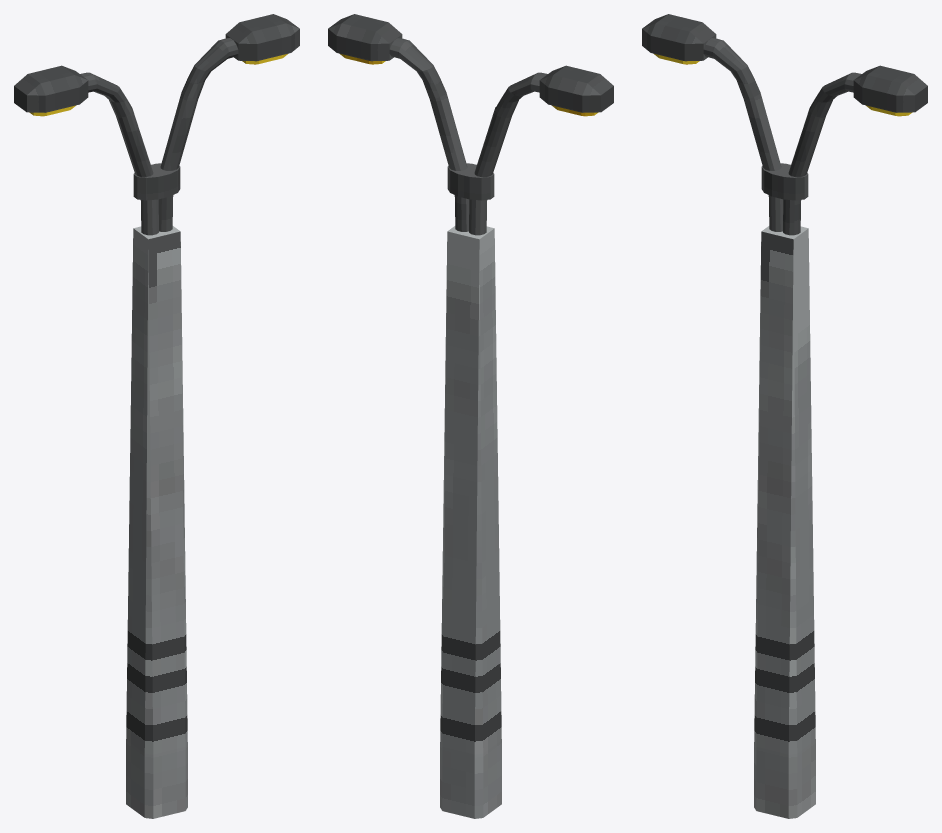
Rendered from tramvaiSupport.fbx.
3 renders of one model, left to right at view 1: azimuth 30°, elevation 25°; view 2: azimuth 150°, elevation 25°; view 3: azimuth 330°, elevation 25°, orthographic.
Parts seen in each view (by area): view 1: cylinder; view 2: cylinder; view 3: cylinder.
Part boxes in pixels (bbox=[...]): cylinder: bbox=[14, 14, 299, 818]; cylinder: bbox=[328, 14, 613, 818]; cylinder: bbox=[642, 14, 927, 818].
Bounding box in the file's own units: 111 × 294 × 17.5.
Materials: 2 (2 with a texture image).
